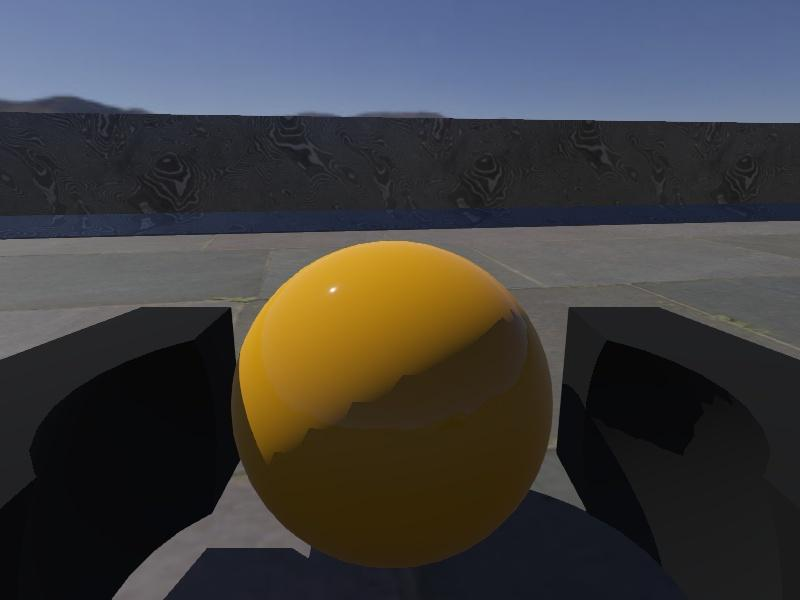orange ball: (230, 240, 554, 571)
